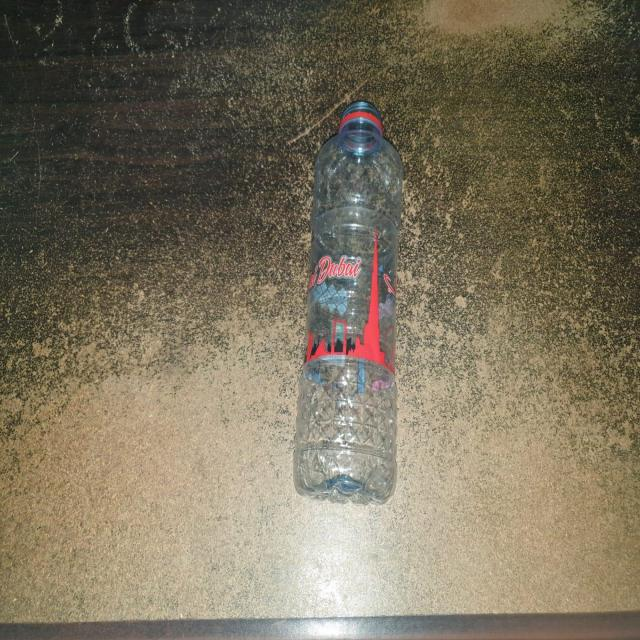bottle: (290, 106, 412, 526)
